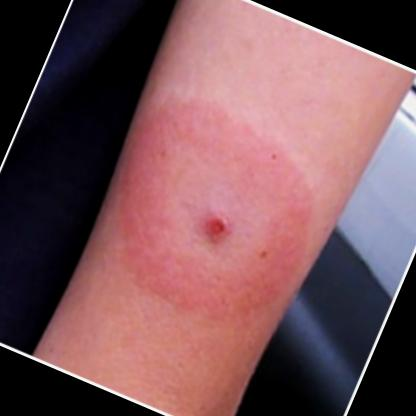Ringworm: (71, 79, 354, 354)
